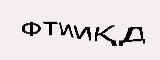Д: (64, 10, 91, 49)
С: (95, 10, 115, 42)
Т: (115, 13, 133, 42)
У: (33, 10, 47, 34)
Ч: (45, 10, 64, 39)
